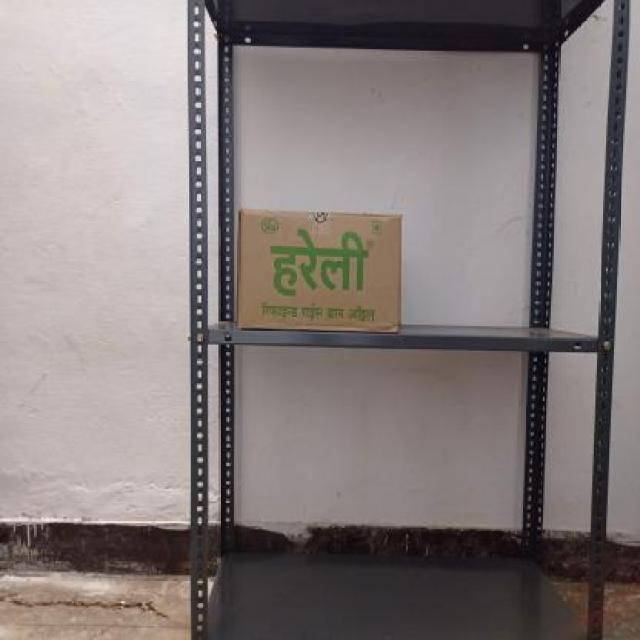box: (239, 208, 399, 334)
